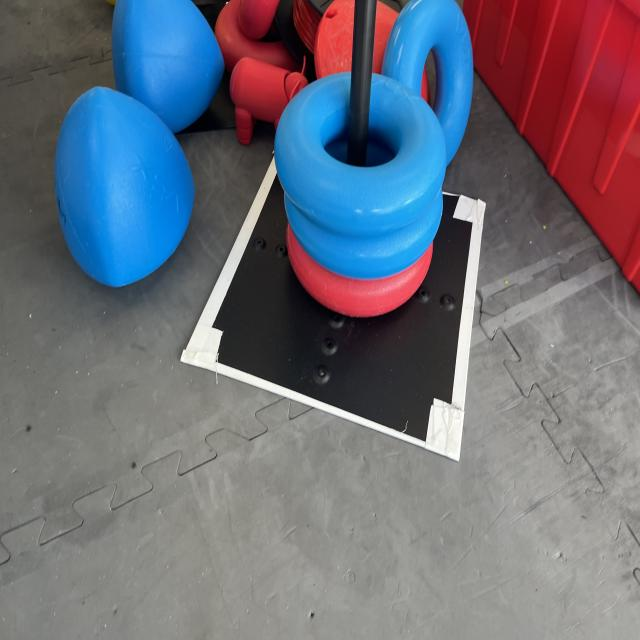Blue-Ring: (275, 73, 446, 237), (381, 0, 474, 165), (285, 188, 442, 280)
Red-Ring: (286, 223, 432, 317)
